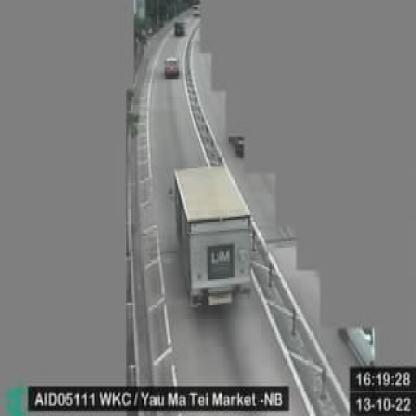Car: (165, 56, 180, 79), (174, 20, 186, 37)
Truck: (171, 164, 254, 313)
